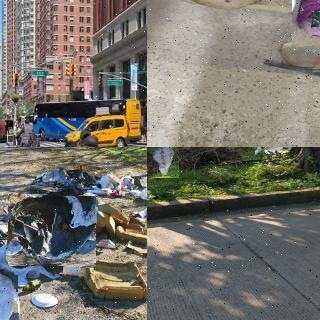Garbage: (7, 195, 97, 267), (290, 0, 320, 46), (0, 234, 35, 269), (147, 147, 179, 178), (0, 273, 19, 320), (265, 147, 288, 154)
